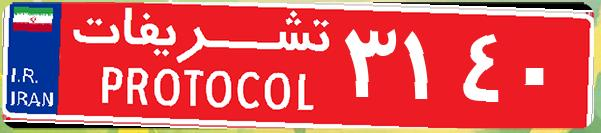0: (520, 20, 580, 115)
1: (400, 20, 460, 115)
3: (340, 20, 400, 115)
4: (460, 20, 520, 115)
تشریفات: (60, 8, 340, 125)
